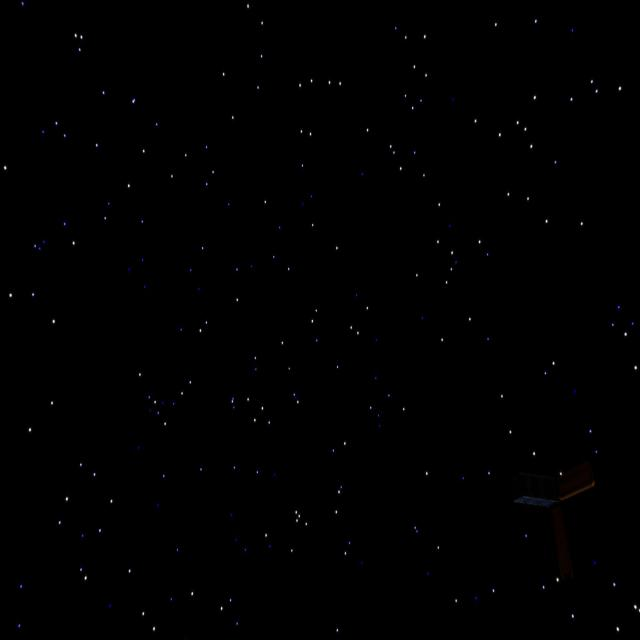satellite: (515, 440, 609, 606)
